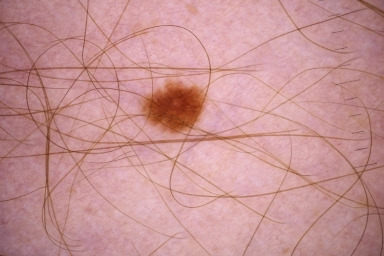melanoma: (145, 83, 205, 131)
